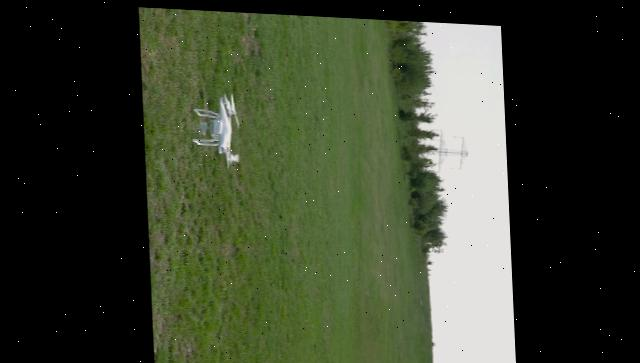drone: (189, 87, 242, 168)
